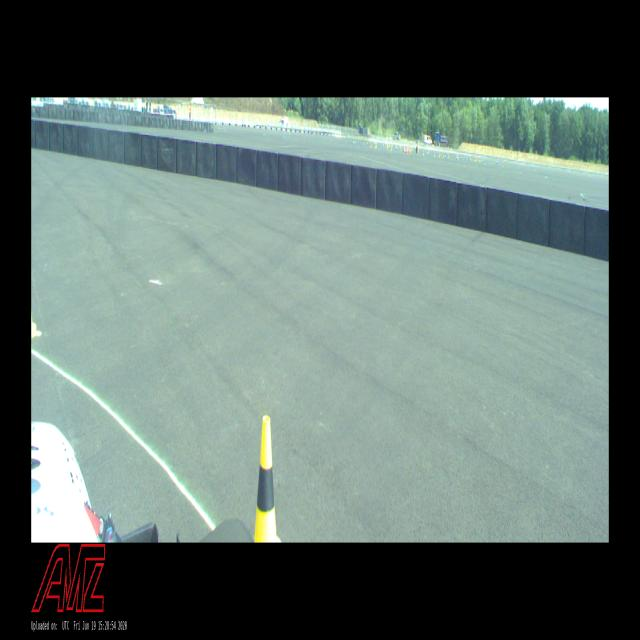yellow_cone: (255, 416, 281, 542)
